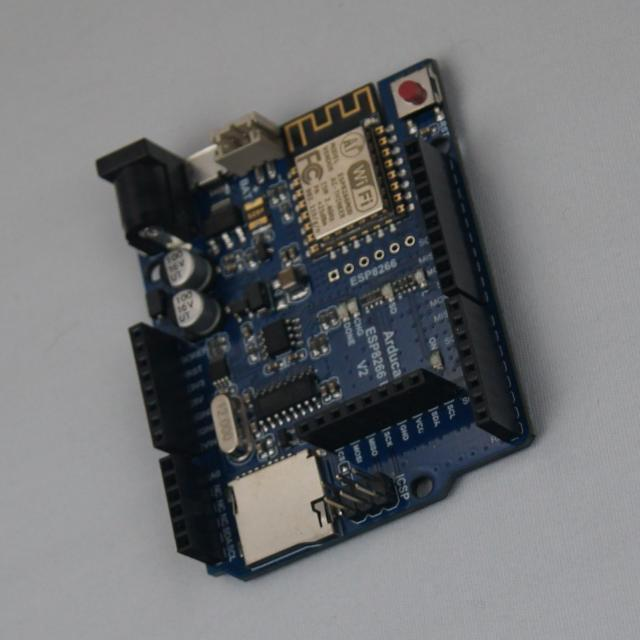Arduino Uno Camera Shield: (97, 60, 534, 578)
